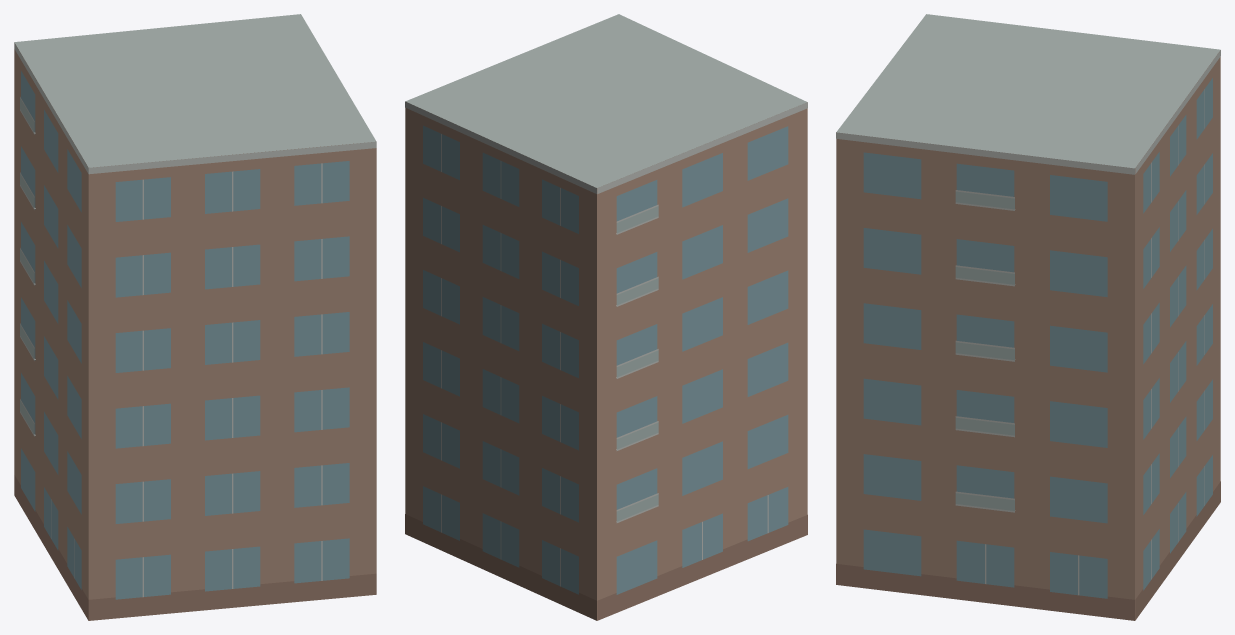
The model's file is survey-upis-32873622.glb.
3 views of the same model, side by side, from view 1: azimuth 30°, elevation 25°; view 2: azimuth 150°, elevation 25°; view 3: azimuth 270°, elevation 25° (orthographic). The views are drawn at different scales.
Parts seen in each view (by area): view 1: survey-upis-32873622.tmp; view 2: survey-upis-32873622.tmp; view 3: survey-upis-32873622.tmp.
Boxes of the visible parts, box(x1,y1,x2,y2) form: survey-upis-32873622.tmp: box(14, 14, 376, 620); survey-upis-32873622.tmp: box(405, 14, 807, 620); survey-upis-32873622.tmp: box(836, 14, 1220, 620).
Bounding box in the file's own units: 12.6 × 17.2 × 13.26.
